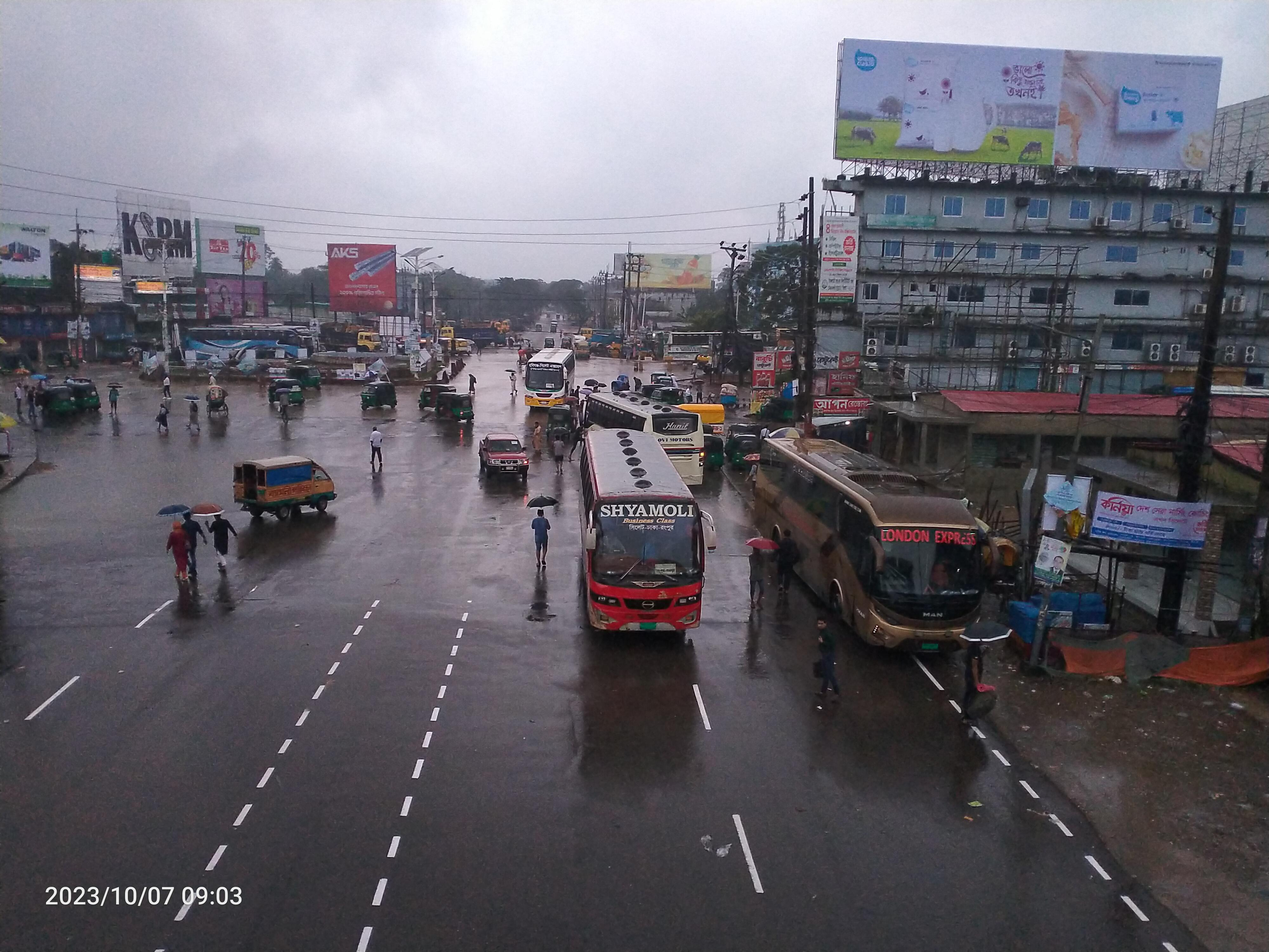Bus: (742, 415, 1015, 677), (549, 409, 725, 680), (577, 374, 718, 493), (151, 307, 331, 384), (510, 325, 589, 433), (654, 323, 766, 376)
Car: (207, 435, 351, 533), (453, 420, 553, 501), (194, 387, 248, 420)
